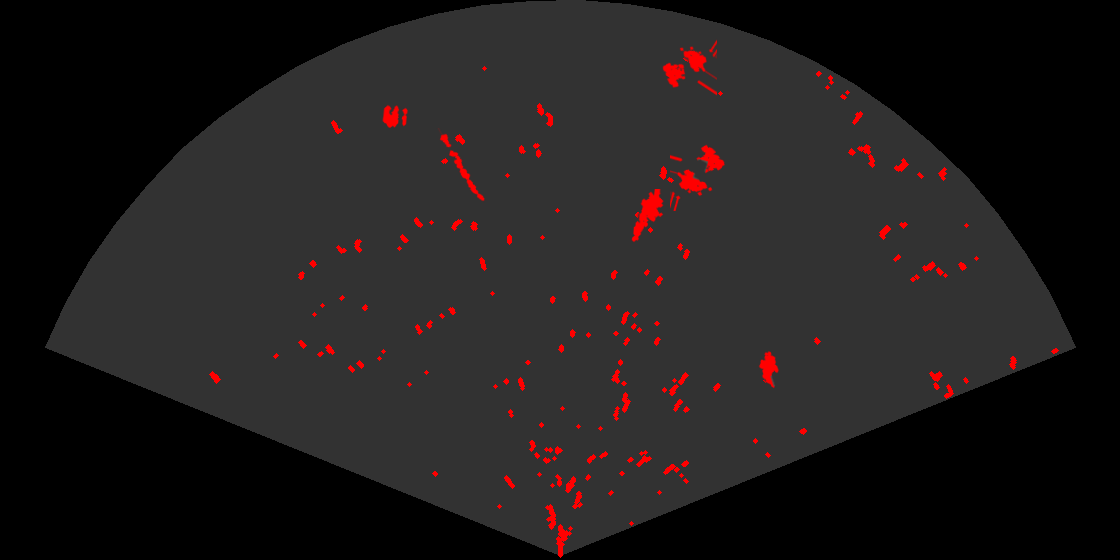AUV: (757, 349, 780, 390)
ball: (381, 103, 409, 129)
cage: (670, 143, 726, 211), (661, 38, 717, 97)
chain: (436, 128, 486, 203)
frogman: (630, 189, 665, 244)
